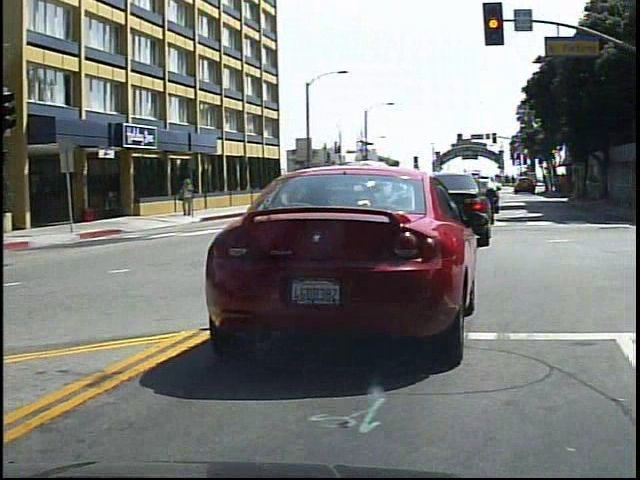person: (180, 175, 199, 220)
